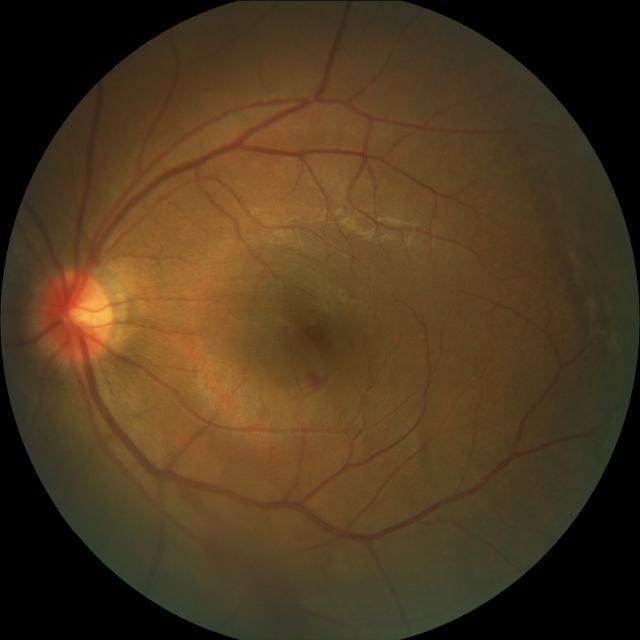OC: (68, 299, 104, 331)
OD: (42, 269, 114, 361)
